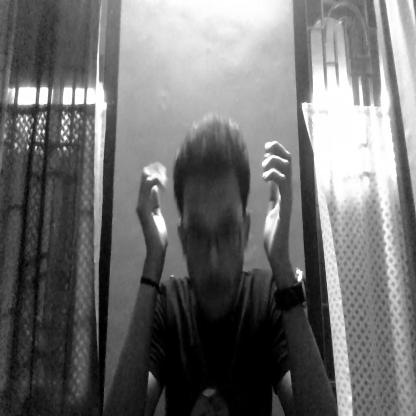Normal: (169, 119, 255, 306)
